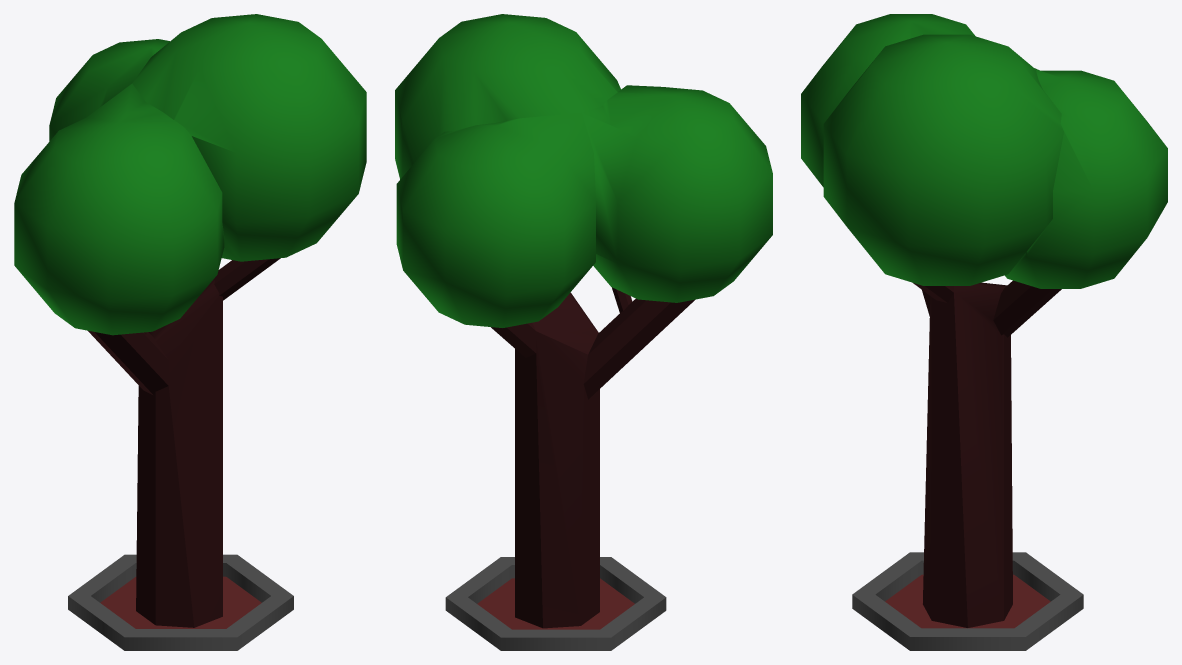
Rendered from arbol.fbx.
3 views of the same model, side by side, from view 1: azimuth 30°, elevation 25°; view 2: azimuth 150°, elevation 25°; view 3: azimuth 270°, elevation 25° (orthographic). The views are drawn at different scales.
Parts seen in each view (by area): view 1: Cylinder001, Tube001, Plane001; view 2: Cylinder001, Tube001, Plane001; view 3: Cylinder001, Tube001, Plane001.
Part boxes in pixels (box(x1,y1,x2,y2)): Cylinder001: box(14, 14, 366, 627); Tube001: box(68, 554, 293, 650); Plane001: box(100, 576, 261, 628); Cylinder001: box(395, 14, 772, 628); Tube001: box(445, 557, 666, 650); Plane001: box(477, 578, 634, 629); Cylinder001: box(801, 14, 1167, 627); Tube001: box(852, 552, 1083, 650); Plane001: box(885, 574, 1050, 628).
Bounding box in the file's own units: 2.56 × 4.25 × 2.38.
